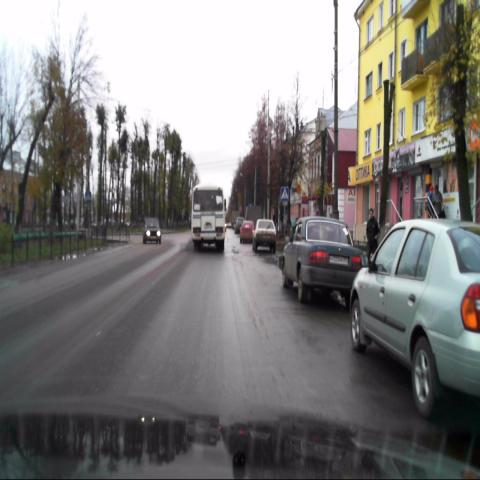5_19_1: (280, 187, 289, 201)
